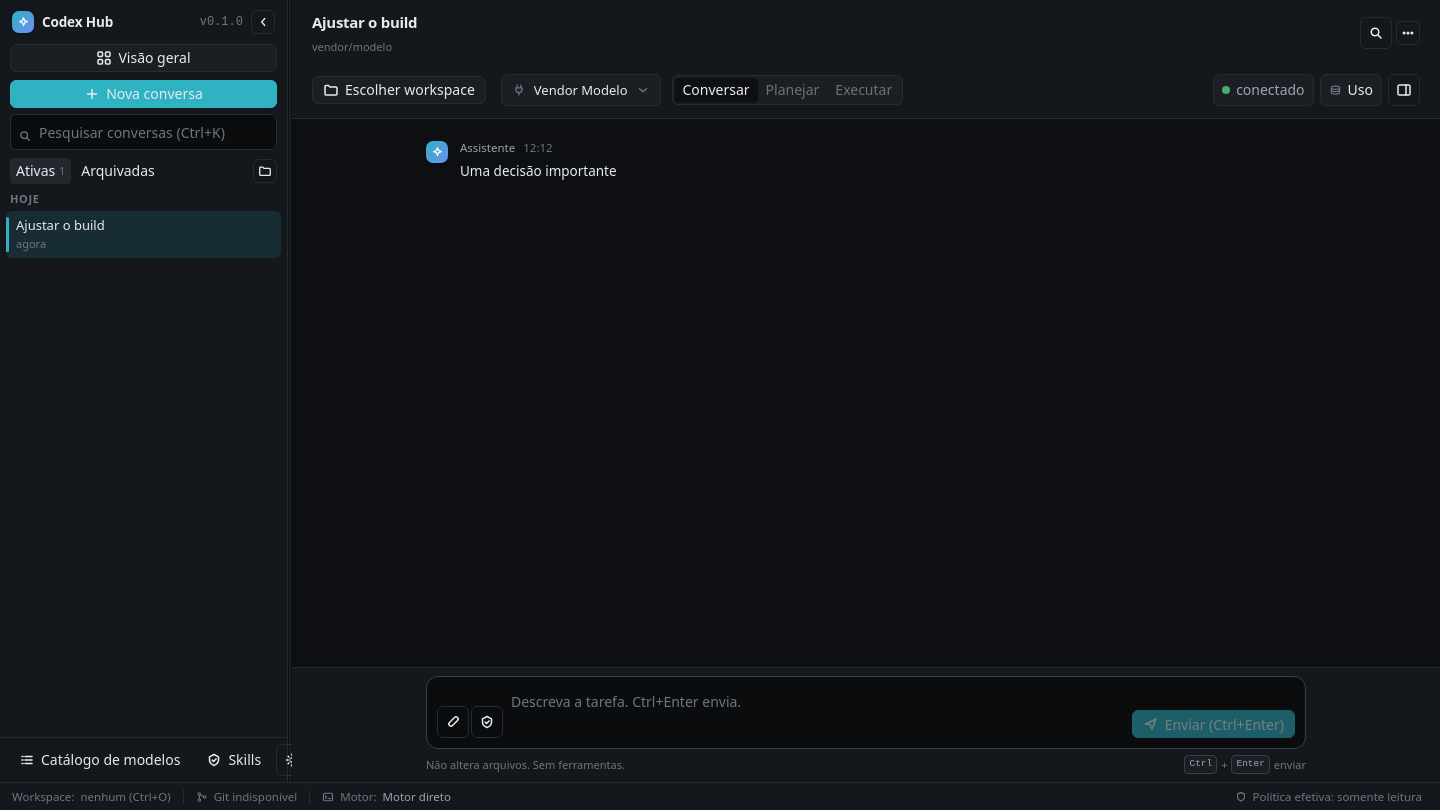
Espaço de trabalho › abre a busca com Ctrl+F e revela um item agentMessage
Expected: the element showing "Assistente 12:12 Uma decisão importante" is shown, [426, 140, 617, 180]
Type keys "{Control>}f{/Control}"
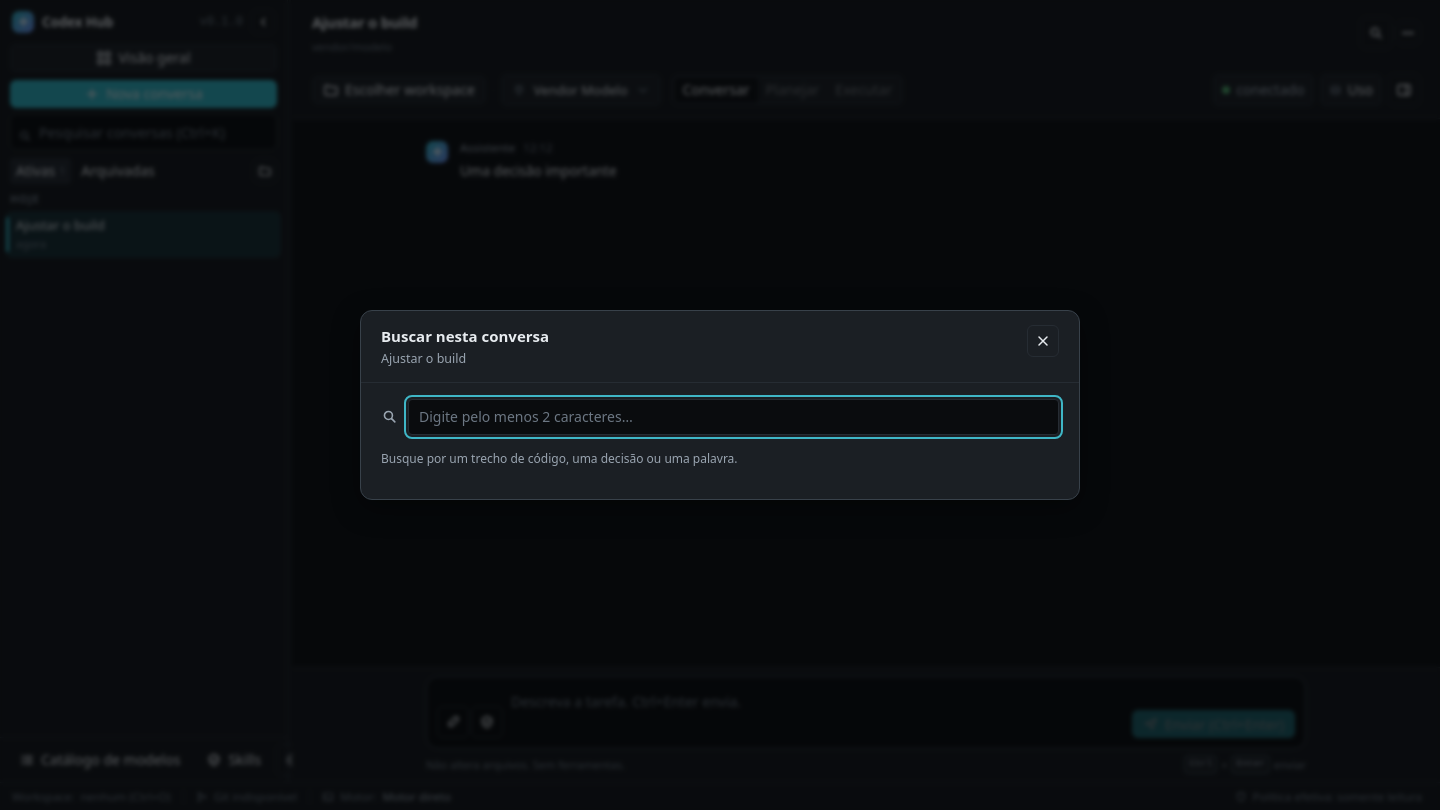
Type "decisão" into the dropdown at (734, 416), box [408, 398, 1059, 434]
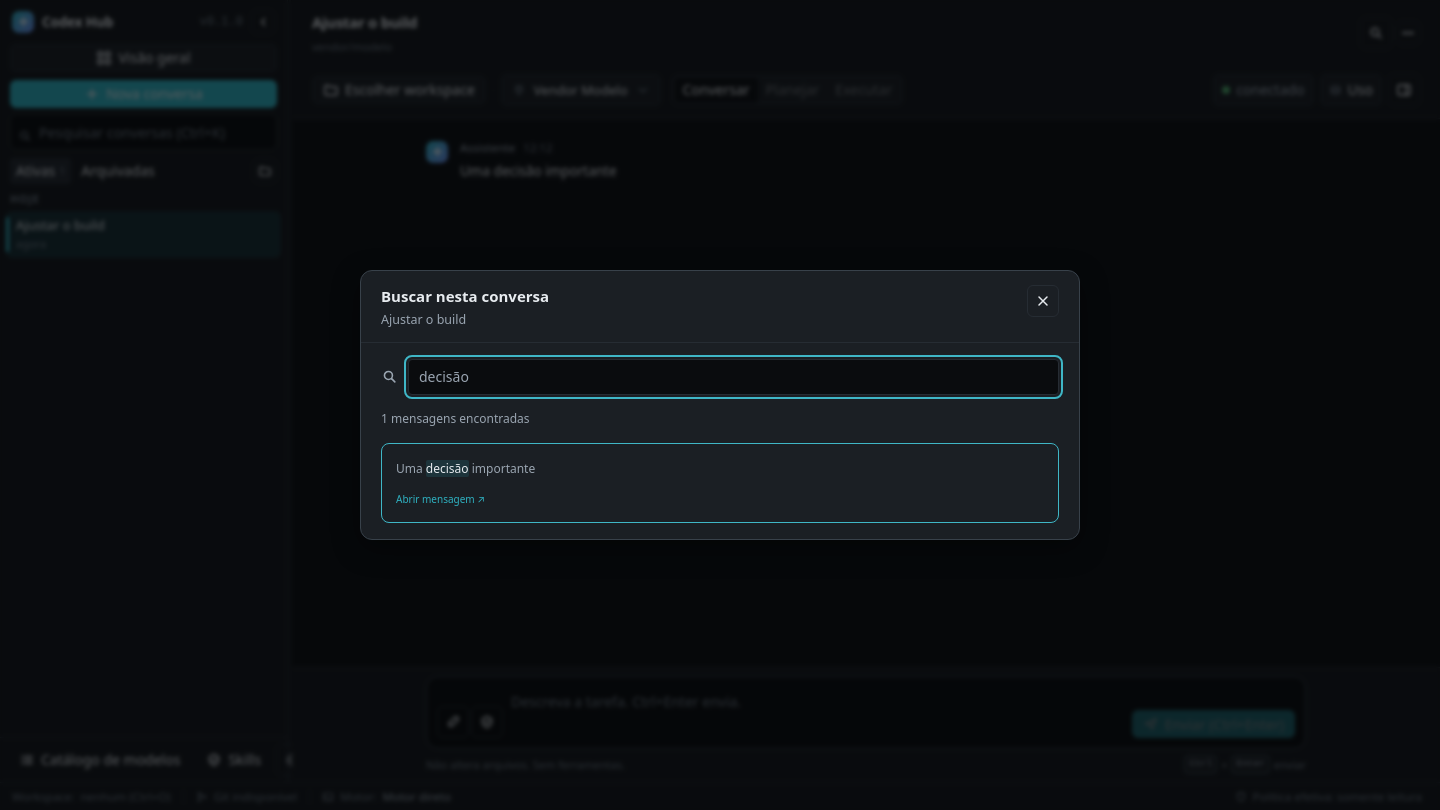
Click the option "Uma decisão importante Abrir mensagem ↗" at (447, 469), box [381, 443, 1059, 523]
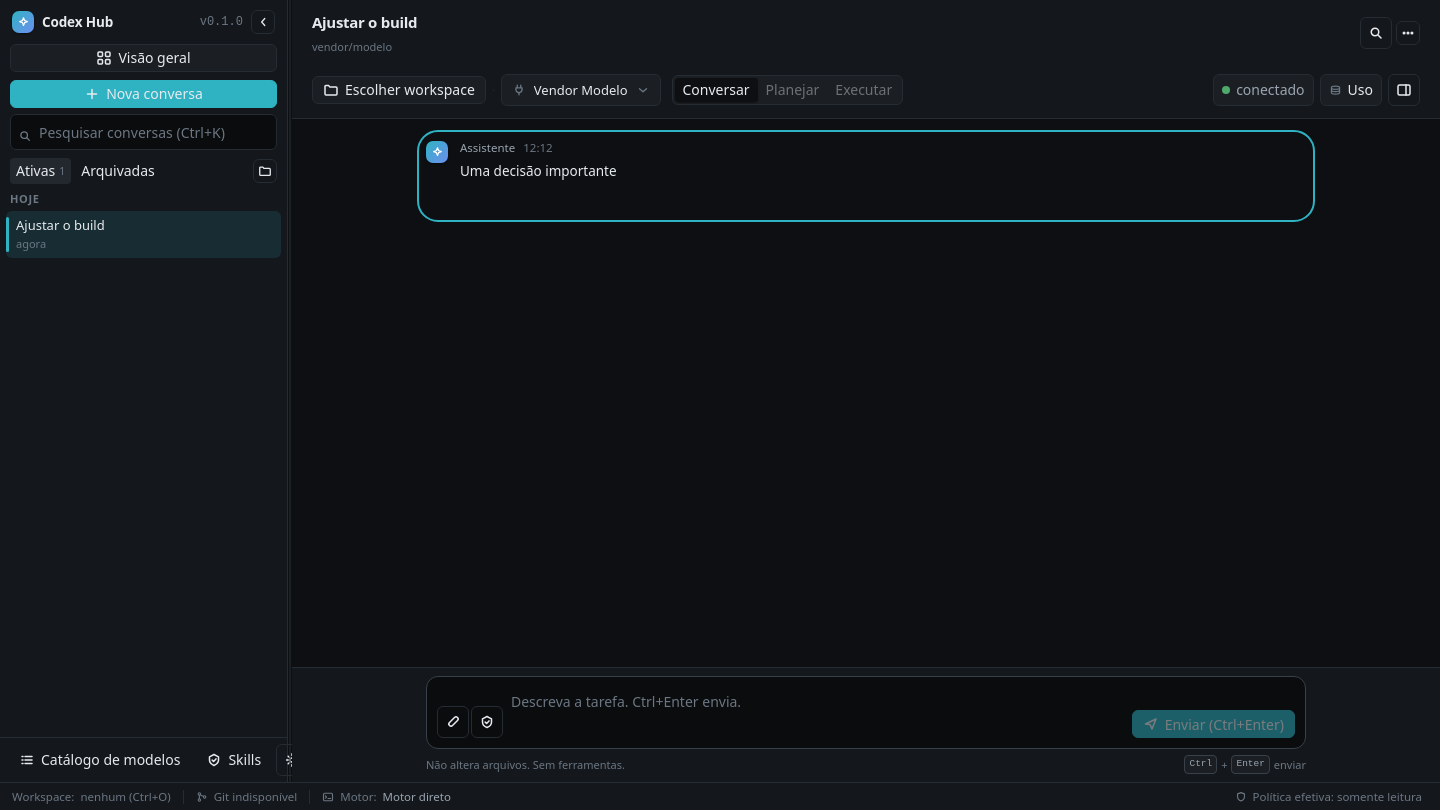
Expected: the dialog is gone
